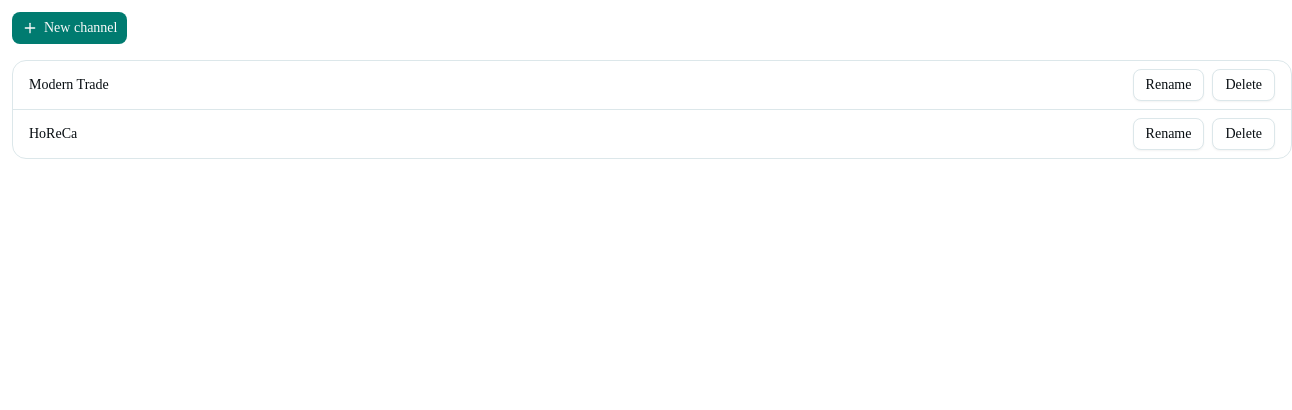
<ChannelBrowser> › opens the form on the channel whose Rename was pressed
The width and height of the screenshot is (1292, 410).
What coordinates should you click on to do the following:
click the button with aria-label "Rename Modern Trade"
I would click on:
 (1169, 85)
Its box is x1=1133 y1=69 x2=1204 y2=101.
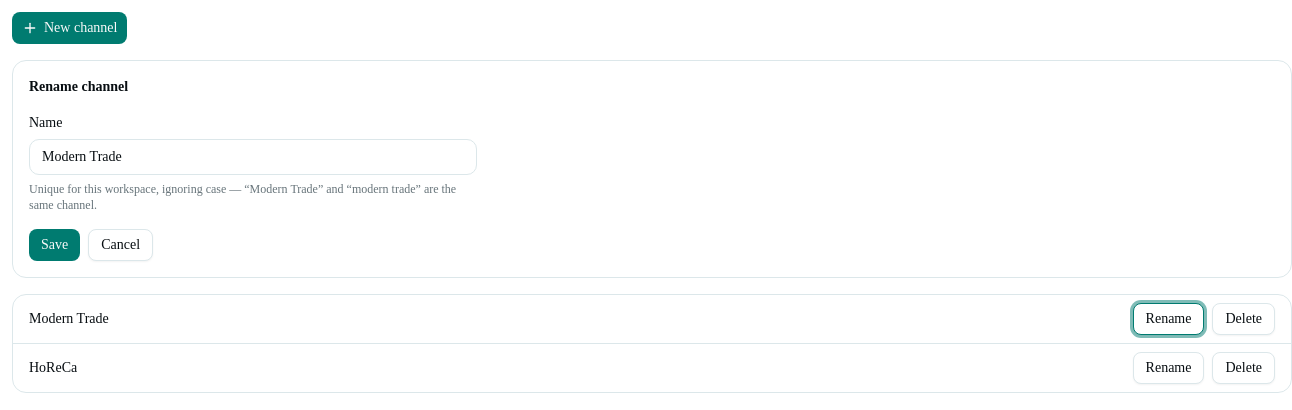
Result: the field labelled "Name" holds "Modern Trade" at x1=29 y1=139 x2=477 y2=175
What coordinates should you click on to do the following:
click the button with aria-label "Rename HoReCa"
I would click on:
 (1169, 368)
Its box is x1=1133 y1=352 x2=1204 y2=384.
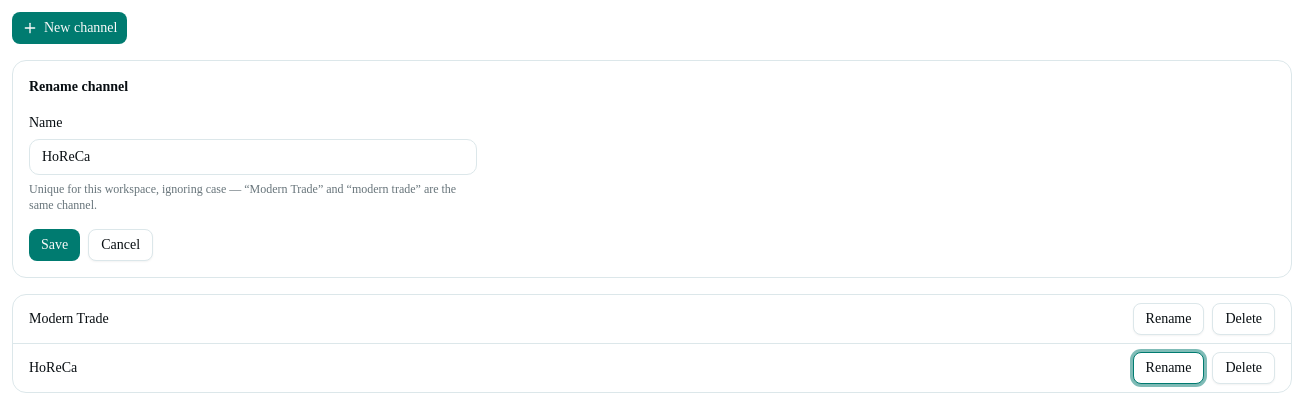
Result: the field labelled "Name" holds "HoReCa" at x1=29 y1=139 x2=477 y2=175
